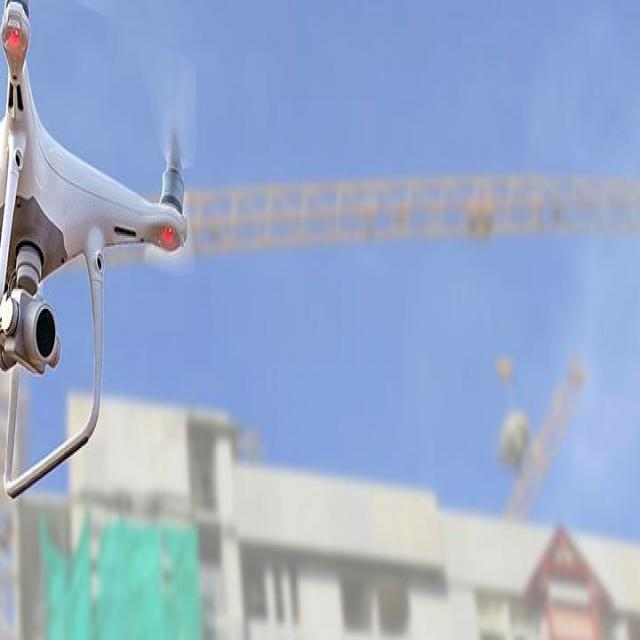drone: (0, 0, 248, 470)
